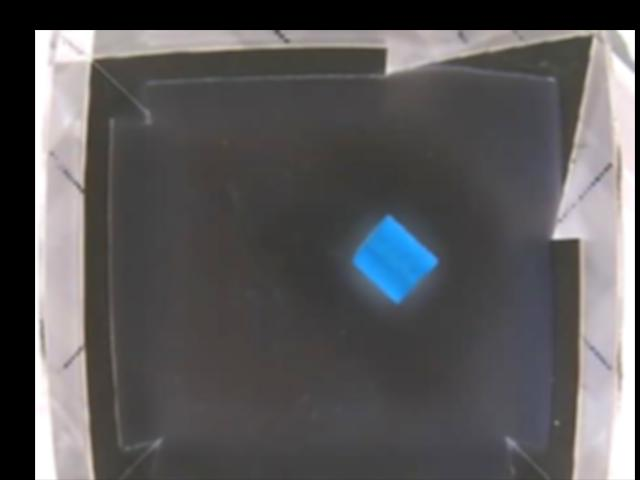Carrot: (354, 212, 437, 305)
